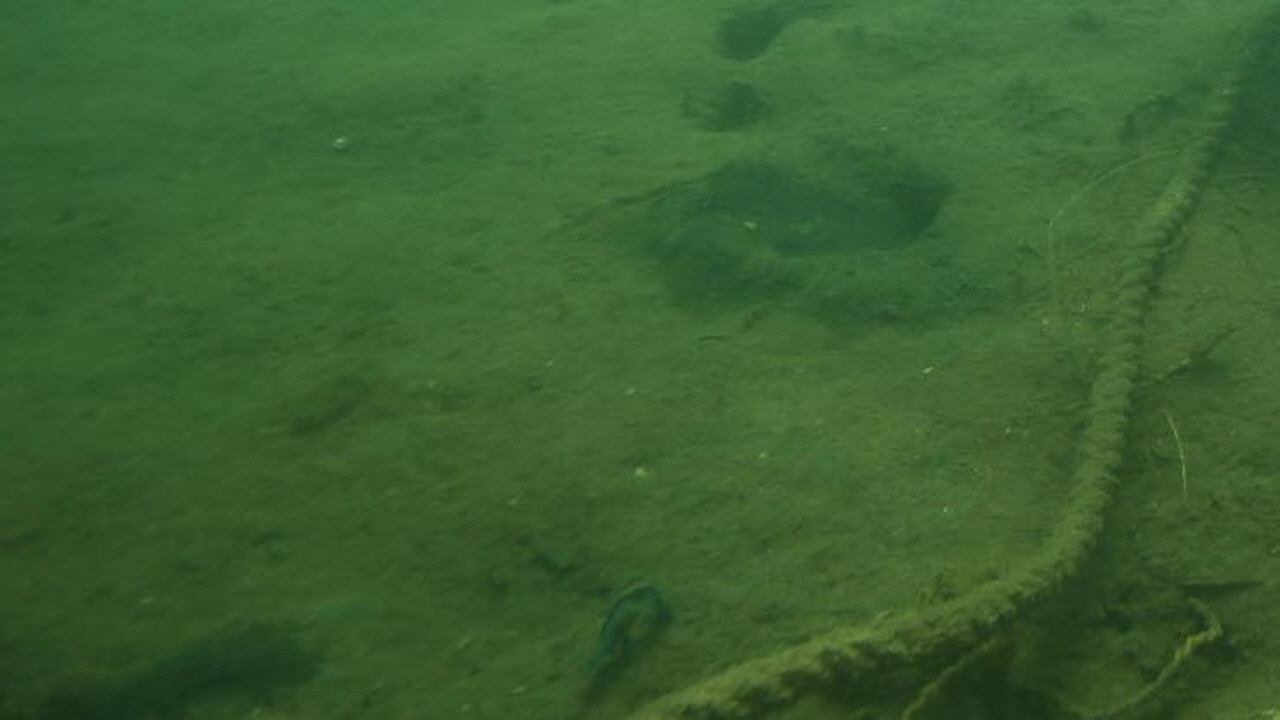rope: (630, 0, 1280, 718)
